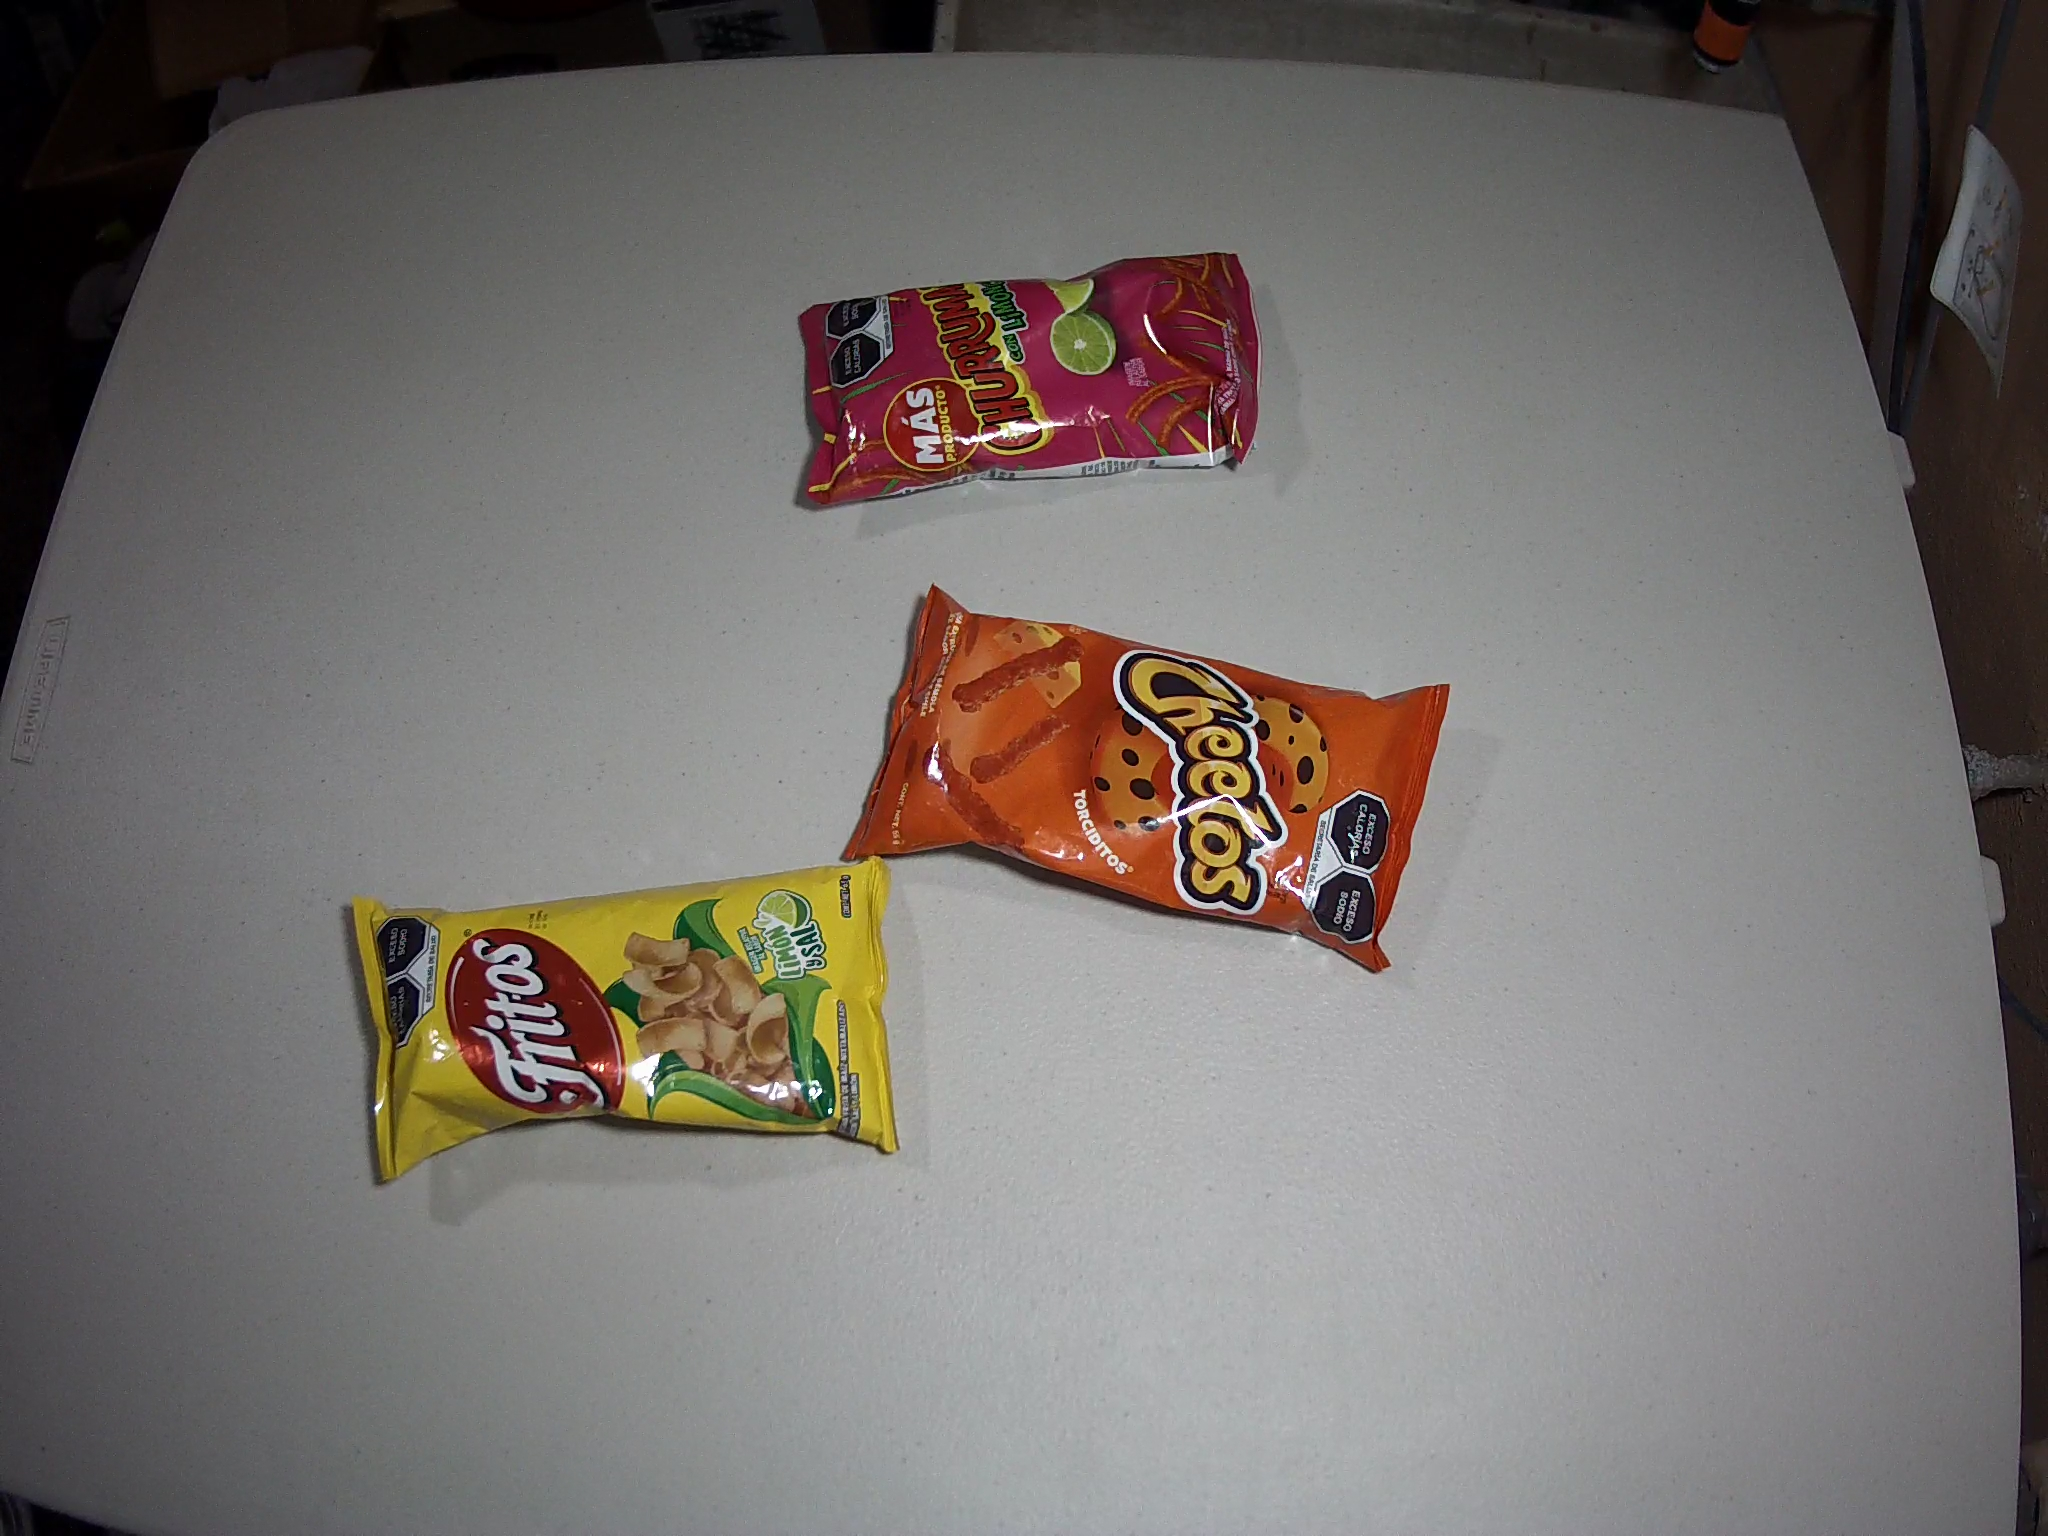CheetosTorciditos_55_F: (842, 584, 1450, 971)
Churrumais_70_F: (797, 255, 1264, 507)
FritosSalLimon_65_F: (348, 854, 901, 1187)
